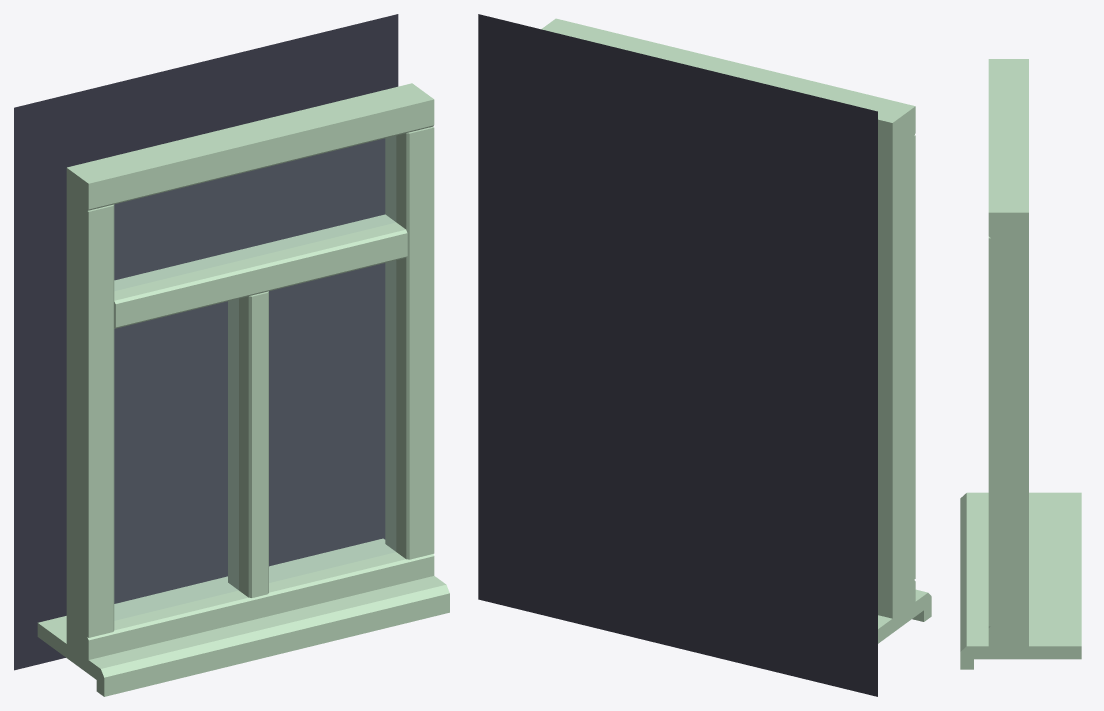
Rendered from mod_window_wide.glb.
3 views of the same model, side by side, from view 1: azimuth 30°, elevation 25°; view 2: azimuth 150°, elevation 25°; view 3: azimuth 270°, elevation 25° (orthographic). The views are drawn at different scales.
Parts seen in each view (by area): view 1: curtain, Glass, frame_left, frame_right, frame_top, sill, mullion_h, frame_bottom, mullion_v; view 2: curtain, frame_left, frame_top, sill, frame_bottom; view 3: frame_right, sill, frame_top, frame_bottom.
Part boxes in pixels (left/top/right/bottom): curtain: left=14, top=14, right=398, bottom=670; Glass: left=115, top=136, right=395, bottom=619; frame_left: left=66, top=196, right=114, bottom=637; frame_right: left=385, top=126, right=434, bottom=559; frame_top: left=66, top=83, right=434, bottom=210; sill: left=37, top=538, right=449, bottom=696; mullion_h: left=114, top=214, right=407, bottom=328; frame_bottom: left=66, top=544, right=434, bottom=665; mullion_v: left=228, top=291, right=268, bottom=597; curtain: left=478, top=14, right=877, bottom=696; frame_left: left=878, top=135, right=915, bottom=595; frame_top: left=541, top=18, right=915, bottom=152; sill: left=878, top=589, right=931, bottom=643; frame_bottom: left=878, top=580, right=915, bottom=618; frame_right: left=988, top=236, right=1028, bottom=626; sill: left=960, top=492, right=1081, bottom=669; frame_top: left=988, top=59, right=1028, bottom=238; frame_bottom: left=988, top=626, right=1028, bottom=651.
Bounding box in the file's own units: 1 × 1.4 × 0.32.
